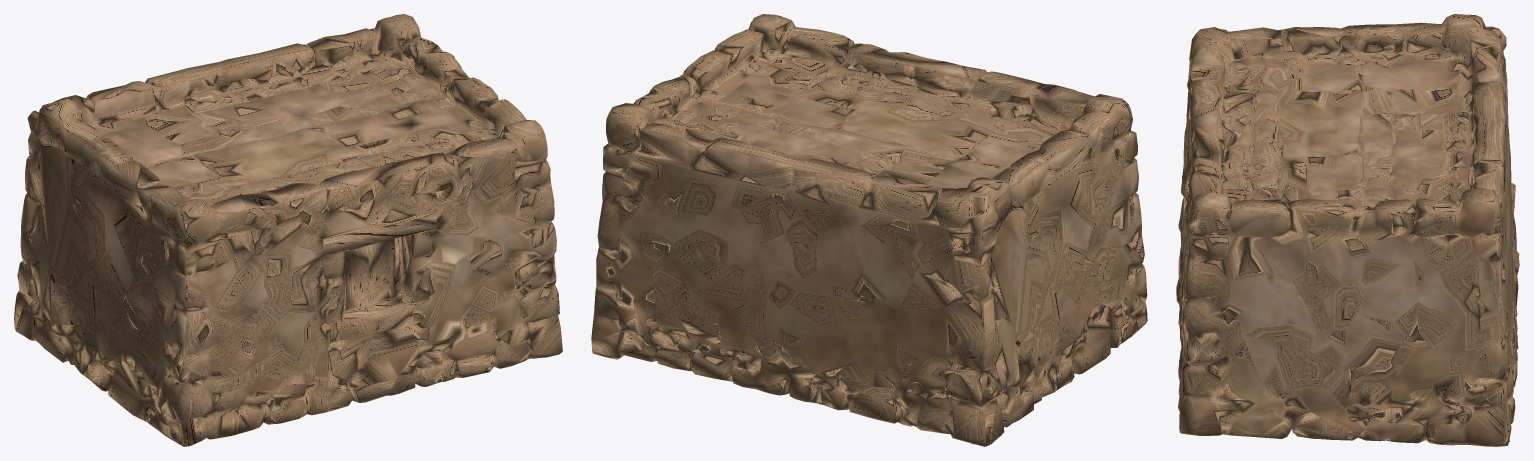
File: limestone-house-annex.glb
3 renders of one model, left to right at view 1: azimuth 30°, elevation 25°; view 2: azimuth 150°, elevation 25°; view 3: azimuth 270°, elevation 25°, orthographic.
Parts seen in each view (by area): view 1: geometry_0; view 2: geometry_0; view 3: geometry_0.
Boxes of the visible parts, bbox=[...] form: geometry_0: bbox=[14, 14, 562, 446]; geometry_0: bbox=[591, 14, 1147, 446]; geometry_0: bbox=[1176, 14, 1519, 446].
Bounding box in the file's own units: 4.5 × 2.65 × 3.32.
Materials: 1 (1 with a texture image).
